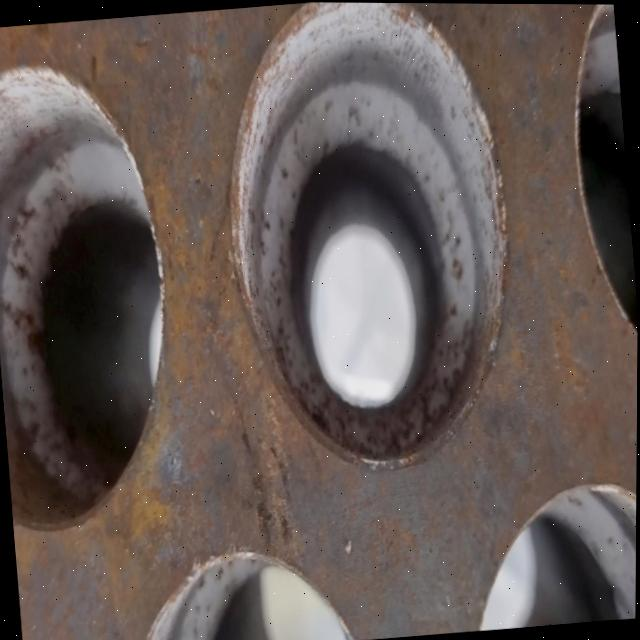Hole: (210, 1, 530, 488), (0, 49, 188, 541), (110, 534, 388, 640), (459, 476, 637, 631)
